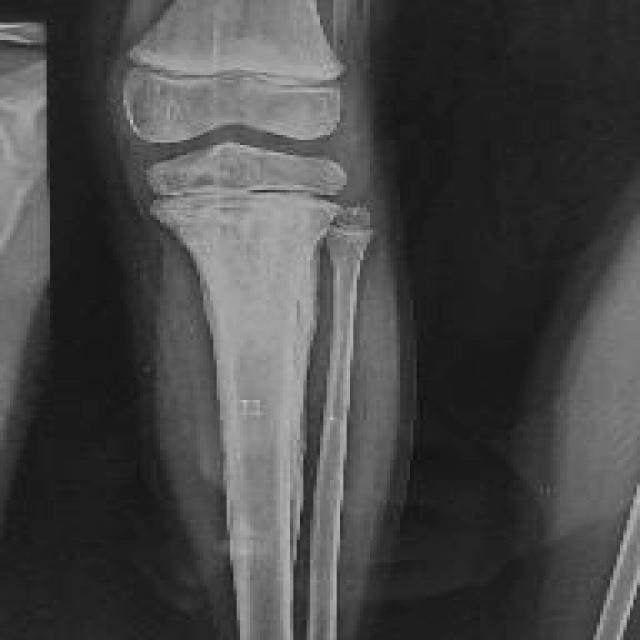bone-cancer: (169, 205, 322, 458)
